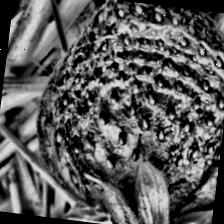Anthracnose Fruit Rot: (35, 14, 224, 224)
